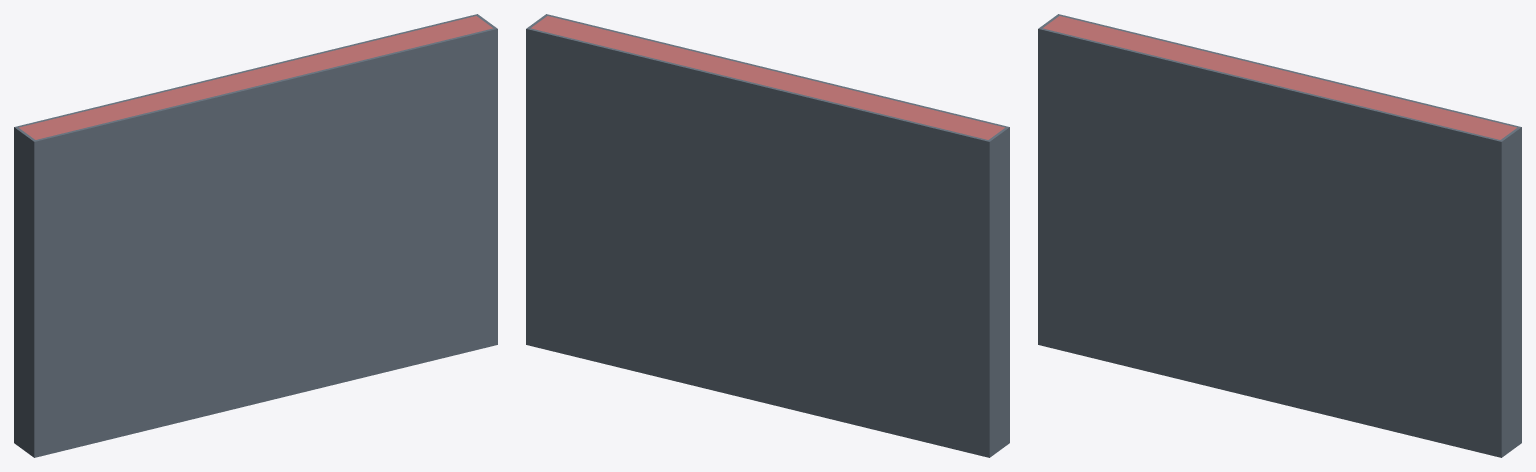
File: step_02.glb
3 renders of one model, left to right at view 1: azimuth 30°, elevation 25°; view 2: azimuth 150°, elevation 25°; view 3: azimuth 330°, elevation 25°, orthographic.
Visible parts, largest first — view 1: part__literature pocket, removed__literature pocket; view 2: part__literature pocket, removed__literature pocket; view 3: part__literature pocket, removed__literature pocket.
Part boxes in pixels (left/top/right/bottom): part__literature pocket: left=14, top=14, right=497, bottom=457; removed__literature pocket: left=19, top=16, right=492, bottom=139; part__literature pocket: left=526, top=14, right=1009, bottom=457; removed__literature pocket: left=531, top=16, right=1004, bottom=139; part__literature pocket: left=1038, top=14, right=1521, bottom=457; removed__literature pocket: left=1043, top=16, right=1516, bottom=139.
Bounding box in the file's own units: 330 × 215 × 25.
